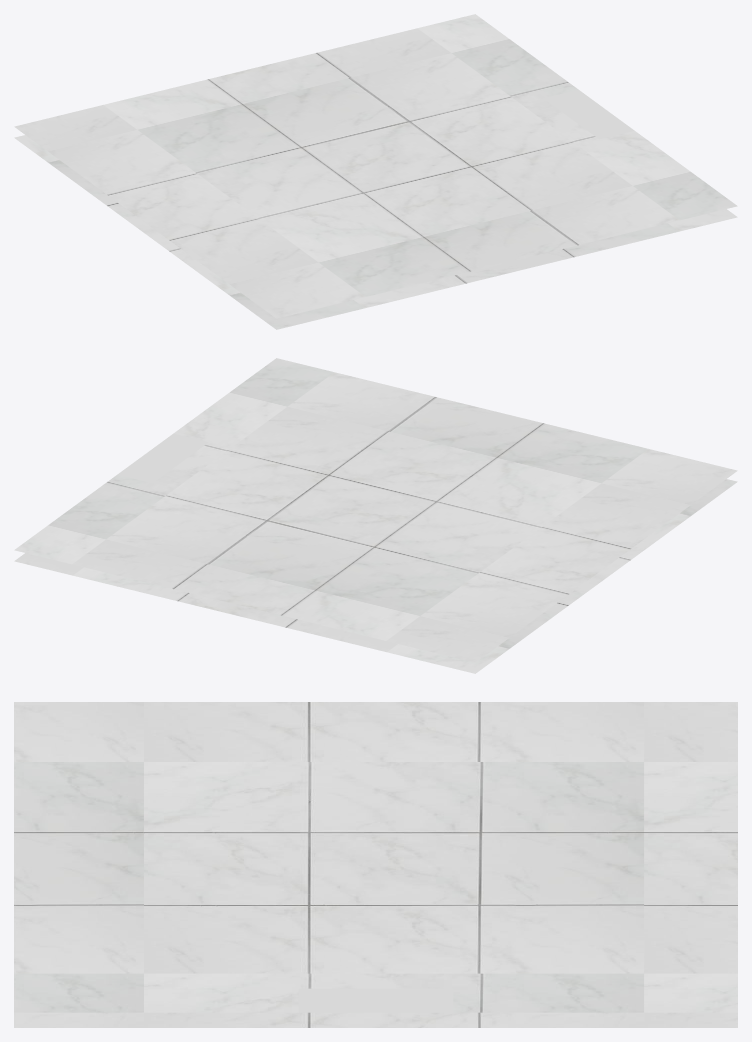
File: zemin-ex.fbx
The picture shows the model from 3 angles, top to bottom: view 1: azimuth 30°, elevation 25°; view 2: azimuth 150°, elevation 25°; view 3: azimuth 270°, elevation 25°; orthographic projection. The views are drawn at different scales.
Parts seen in each view (by area): view 1: oda.001; view 2: oda.001; view 3: oda.001.
Part boxes in pixels (x1,y1,x2,y2): oda.001: (14, 14, 737, 329); oda.001: (14, 358, 737, 673); oda.001: (14, 702, 737, 1027).
Bounding box in the file's own units: 949 × 21.76 × 935.
Materials: 1 (1 with a texture image).
